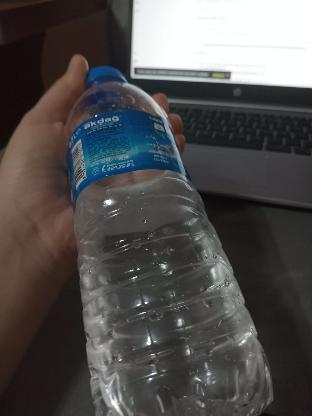Plastic Bottle: (65, 66, 269, 416)
